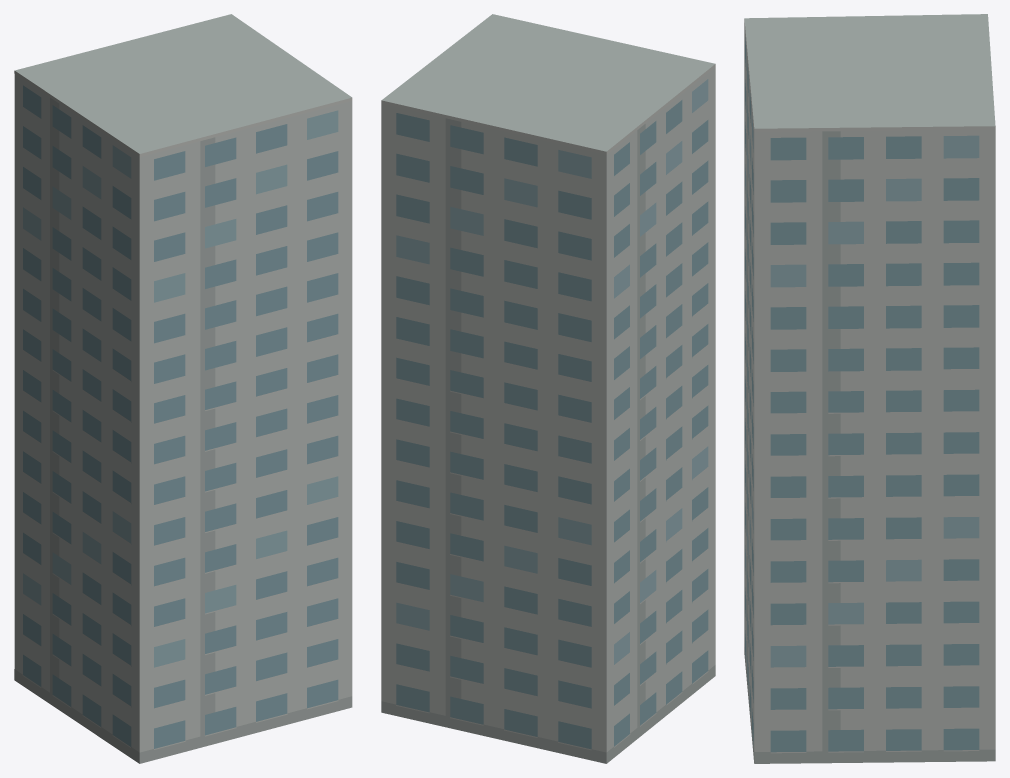
File: survey-upis-32989504.glb
The picture shows the model from 3 angles, left to right: view 1: azimuth 30°, elevation 25°; view 2: azimuth 150°, elevation 25°; view 3: azimuth 270°, elevation 25°; orthographic projection. The views are drawn at different scales.
Parts seen in each view (by area): view 1: survey-upis-32989504.tmp; view 2: survey-upis-32989504.tmp; view 3: survey-upis-32989504.tmp.
Boxes of the visible parts, left/top/right/bottom form: survey-upis-32989504.tmp: left=14, top=14, right=352, bottom=763; survey-upis-32989504.tmp: left=381, top=14, right=715, bottom=763; survey-upis-32989504.tmp: left=744, top=14, right=995, bottom=763.
Size of the model in its own units: 17.73 by 45.75 by 16.4.
